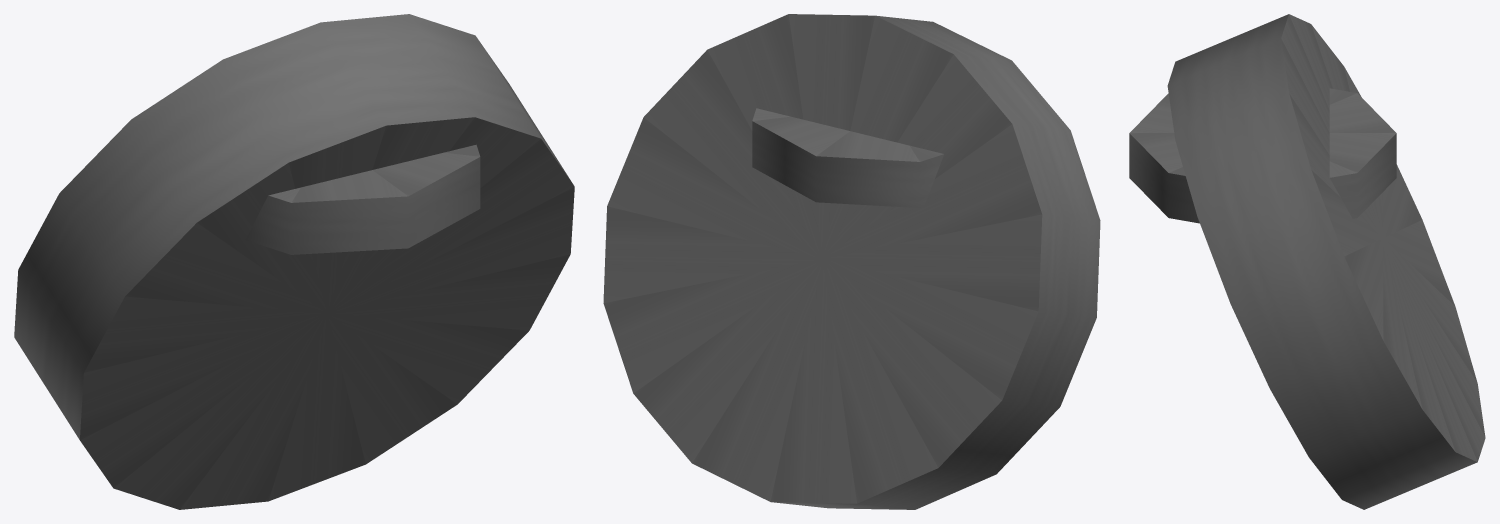
File: mastarmcurve_8x2_c0_up.obj
3 renders of one model, left to right at view 1: azimuth 30°, elevation 25°; view 2: azimuth 150°, elevation 25°; view 3: azimuth 270°, elevation 25°, orthographic. The views are drawn at different scales.
Parts seen in each view (by area): view 1: mastarm_8x2_c0_up; view 2: mastarm_8x2_c0_up; view 3: mastarm_8x2_c0_up.
Part boxes in pixels (x1,y1,x2,y2): mastarm_8x2_c0_up: [14, 14, 574, 509]; mastarm_8x2_c0_up: [603, 14, 1100, 509]; mastarm_8x2_c0_up: [1129, 14, 1485, 509].
Size of the model in its own units: 0.7282 by 0.7396 by 0.5331.
